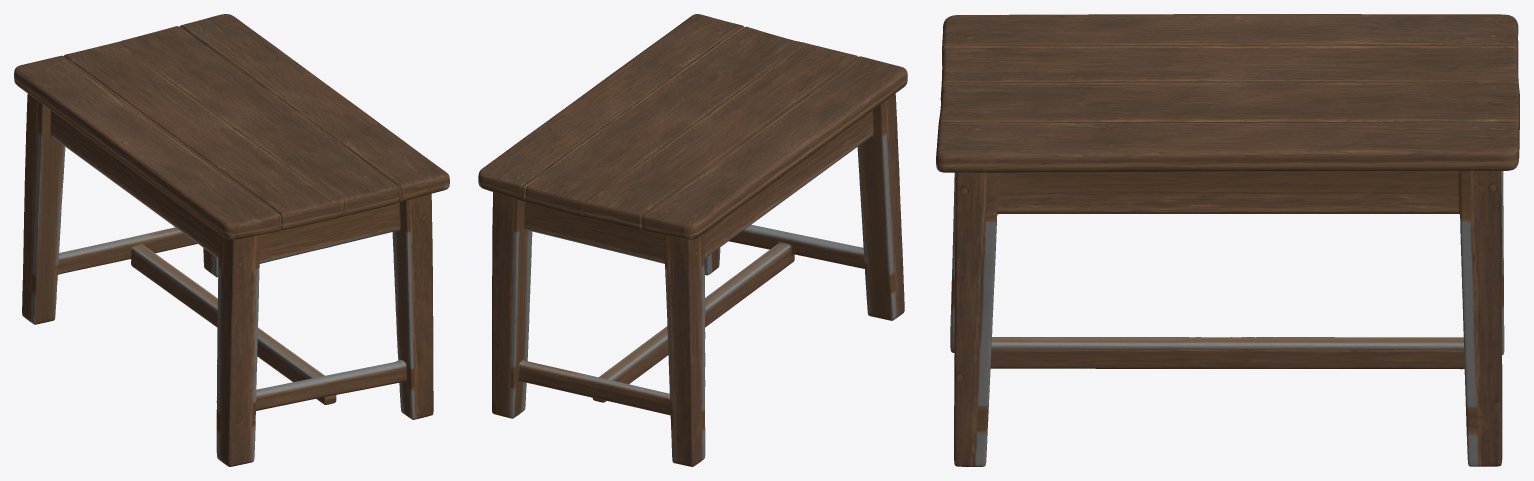
The model's file is tripo_convert_dc18cdcc-30ce-44da-9f4b-1db23b23a1ee.fbx.
The picture shows the model from 3 angles, left to right: view 1: azimuth 30°, elevation 25°; view 2: azimuth 150°, elevation 25°; view 3: azimuth 270°, elevation 25°; orthographic projection. The views are drawn at different scales.
Visible parts, largest first — view 1: tripo_node_dc18cdcc; view 2: tripo_node_dc18cdcc; view 3: tripo_node_dc18cdcc.
Part boxes in pixels (<box>): tripo_node_dc18cdcc: <box>14,14,449,466</box>; tripo_node_dc18cdcc: <box>478,14,907,466</box>; tripo_node_dc18cdcc: <box>936,14,1519,466</box>.
Bounding box in the file's own units: 0.575 × 0.6204 × 1.
Materials: 1 (1 with a texture image).
